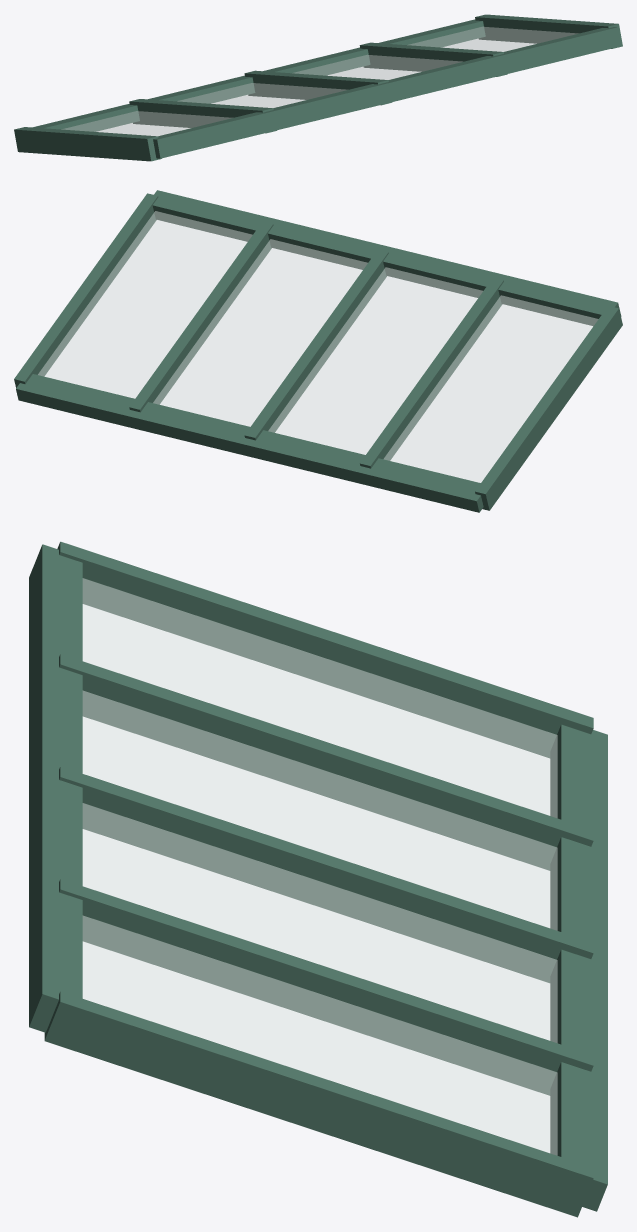
File: botanical-glasshouse-and-palm-house-botanical-glasshou-ca48e259__38537.glb
3 views of the same model, one above another, from view 1: azimuth 30°, elevation 25°; view 2: azimuth 150°, elevation 25°; view 3: azimuth 270°, elevation 25° (orthographic). The views are drawn at different scales.
Visible parts, largest first — view 1: botanical-glasshouse-and-palm-house-roof-glazing-panel; view 2: botanical-glasshouse-and-palm-house-roof-glazing-panel; view 3: botanical-glasshouse-and-palm-house-roof-glazing-panel.
Boxes of the visible parts, x1,y1,x2,y2 form: botanical-glasshouse-and-palm-house-roof-glazing-panel: (14,14,622,161); botanical-glasshouse-and-palm-house-roof-glazing-panel: (14,190,622,512); botanical-glasshouse-and-palm-house-roof-glazing-panel: (29,541,607,1217).
Bounding box in the file's own units: 3.07 × 0.6783 × 1.63.
